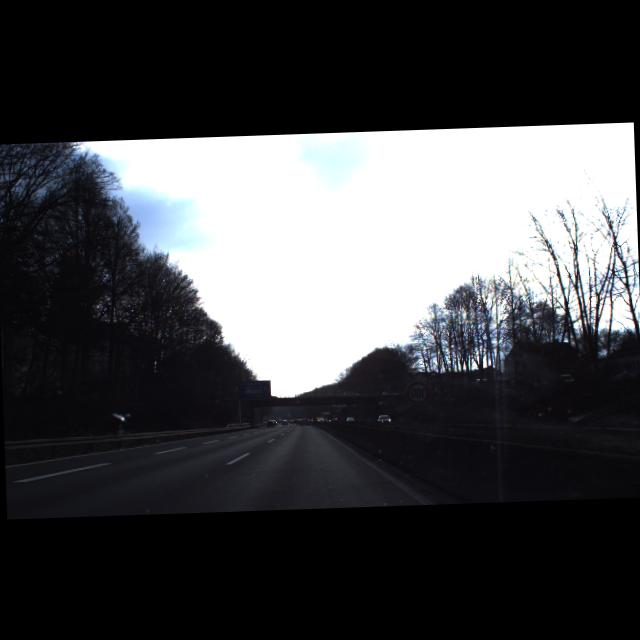prohibitory: (404, 378, 430, 404)
